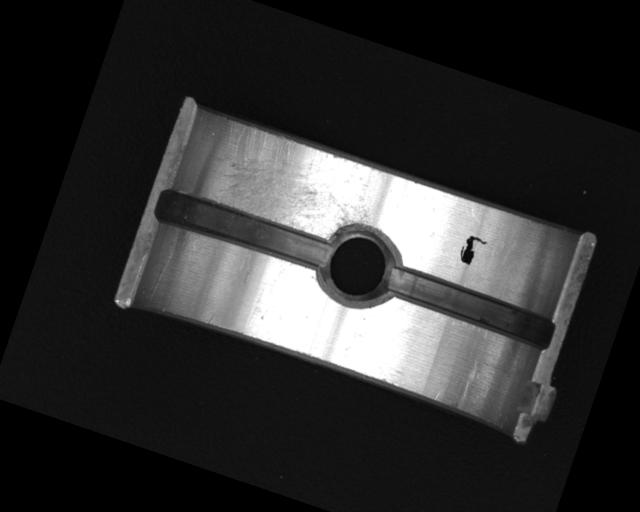blot: (456, 231, 487, 269)
gap: (151, 183, 334, 276), (383, 263, 557, 350)
hole: (312, 216, 409, 312)
nick: (456, 358, 482, 408)
scratch: (199, 118, 390, 252)
